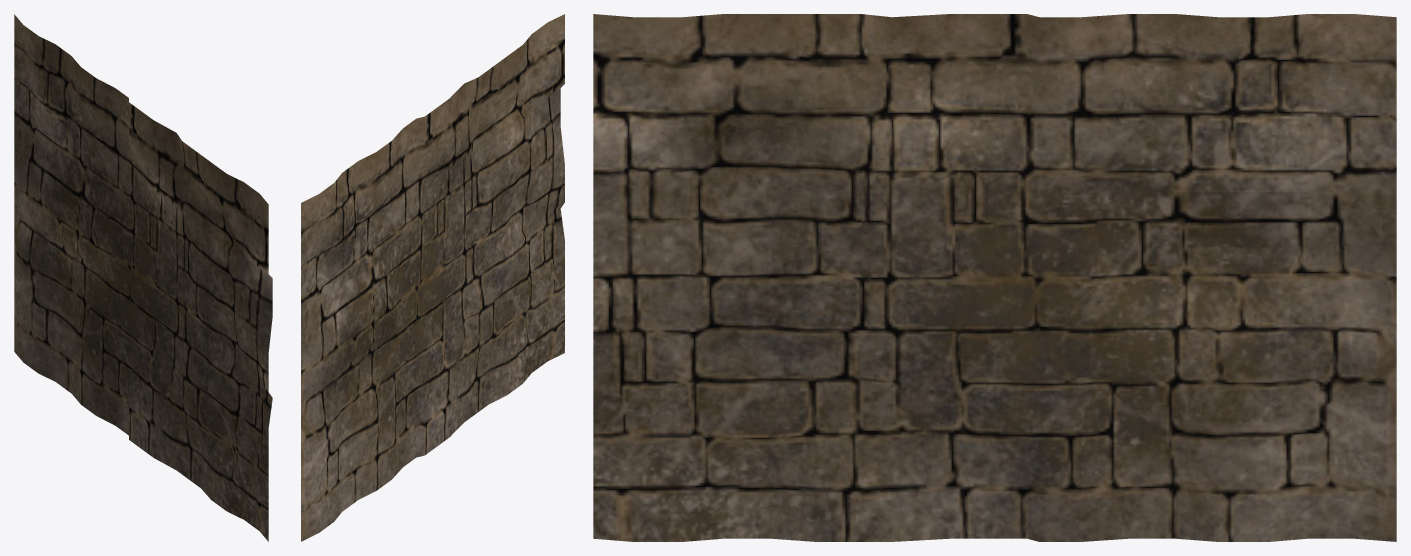
Rendered from stone_wall.fbx.
3 views of the same model, side by side, from view 1: azimuth 30°, elevation 25°; view 2: azimuth 150°, elevation 25°; view 3: azimuth 270°, elevation 25° (orthographic). The views are drawn at different scales.
Visible parts, largest first — view 1: Object012; view 2: Object012; view 3: Object012.
Boxes of the visible parts, left/top/right/bottom form: Object012: left=14, top=14, right=272, bottom=541; Object012: left=301, top=14, right=564, bottom=541; Object012: left=593, top=14, right=1396, bottom=541.
Size of the model in its own units: 0.0301 by 2.28 by 3.16.
